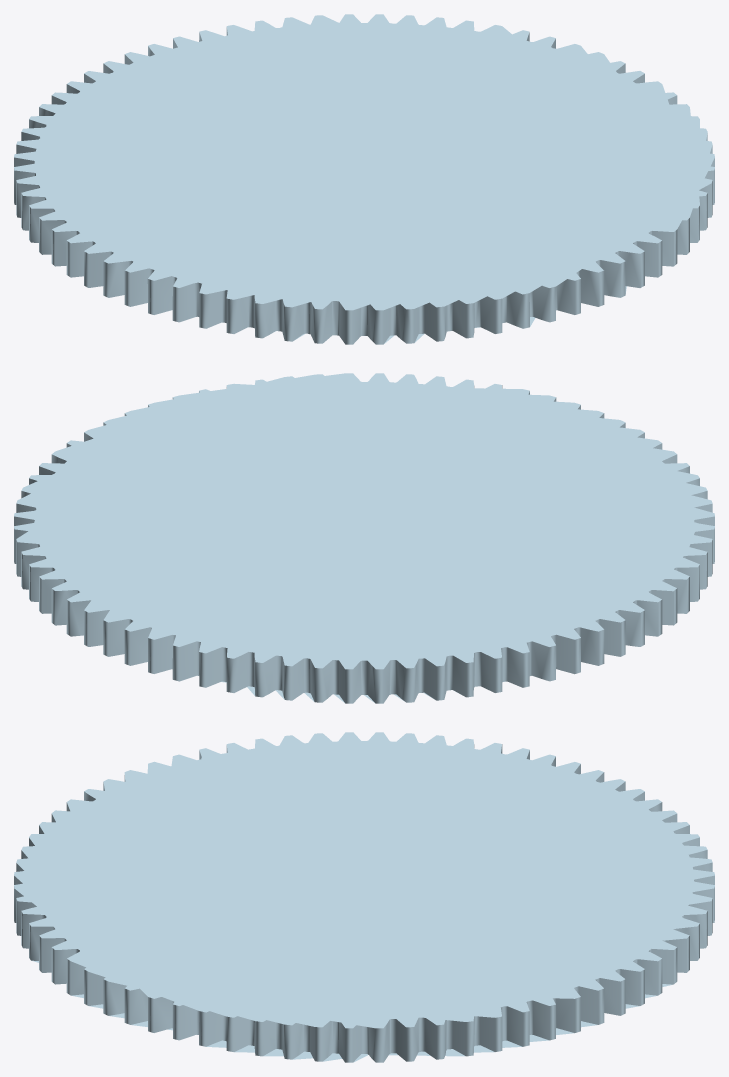
The model's file is spline72t.fbx.
3 renders of one model, top to bottom at view 1: azimuth 30°, elevation 25°; view 2: azimuth 150°, elevation 25°; view 3: azimuth 270°, elevation 25°, orthographic.
Visible parts, largest first — view 1: Spur gear (72 teeth); view 2: Spur gear (72 teeth); view 3: Spur gear (72 teeth).
Part boxes in pixels (x1,y1,x2,y2): Spur gear (72 teeth): (14,14,714,344); Spur gear (72 teeth): (14,373,714,703); Spur gear (72 teeth): (14,732,714,1062).
Size of the model in its own units: 9.39 by 0.508 by 9.39.
